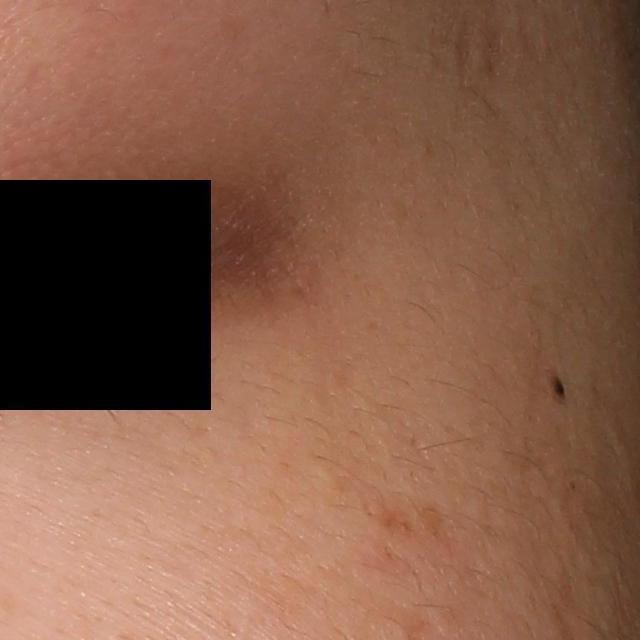nevus: (547, 370, 567, 405)
